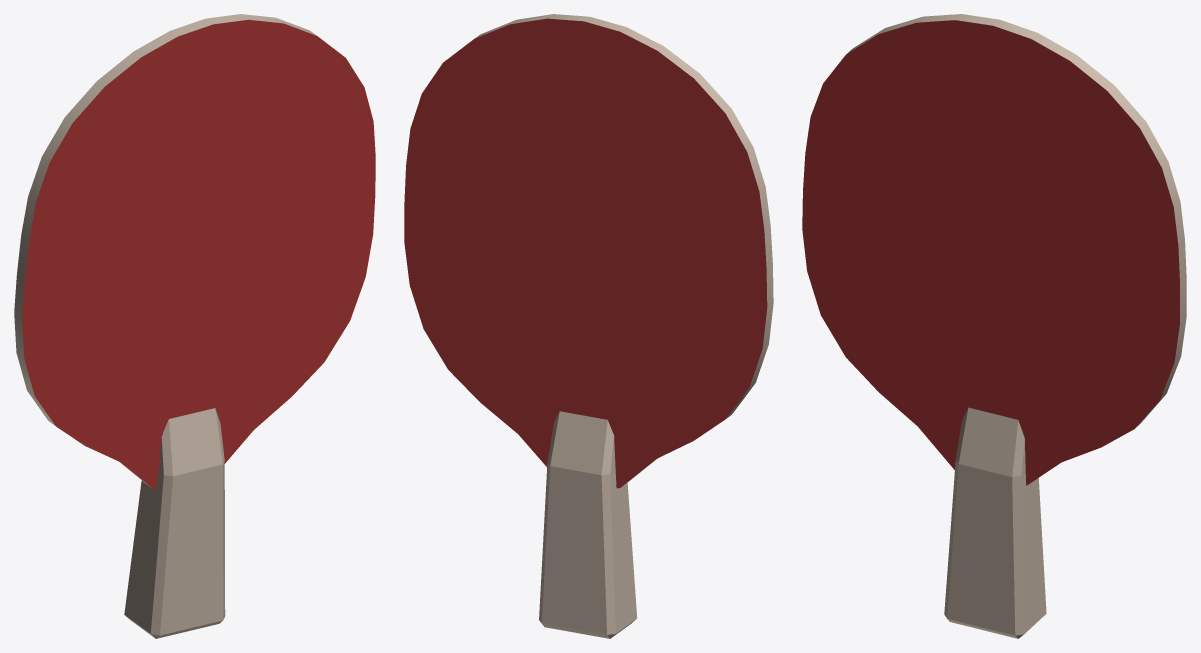
Rendered from mdlTableTennisPaddle.glb.
3 views of the same model, side by side, from view 1: azimuth 30°, elevation 25°; view 2: azimuth 150°, elevation 25°; view 3: azimuth 330°, elevation 25° (orthographic). The views are drawn at different scales.
Parts seen in each view (by area): view 1: red paddle; view 2: red paddle; view 3: red paddle.
Part boxes in pixels (bbox=[...]): red paddle: bbox=[14, 14, 375, 638]; red paddle: bbox=[404, 14, 773, 638]; red paddle: bbox=[802, 14, 1186, 638].
Bounding box in the file's own units: 0.1624 × 0.26 × 0.0305.
1 material, 1 textured.
